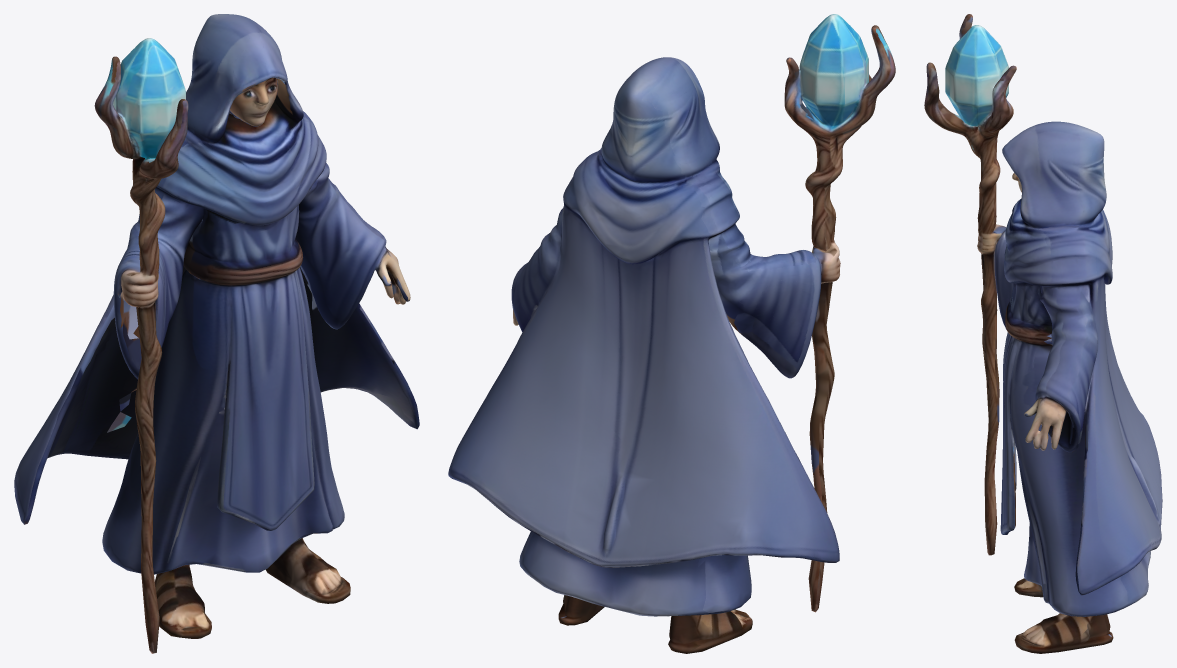
Rendered from mage.glb.
The picture shows the model from 3 angles, left to right: view 1: azimuth 30°, elevation 25°; view 2: azimuth 150°, elevation 25°; view 3: azimuth 270°, elevation 25°; orthographic projection. The views are drawn at different scales.
Parts seen in each view (by area): view 1: Wizard; view 2: Wizard; view 3: Wizard.
Boxes of the visible parts, <box> form: Wizard: <box>14,14,419,653</box>; Wizard: <box>448,14,895,653</box>; Wizard: <box>924,14,1162,653</box>.
Bounding box in the file's own units: 1.08 × 1.65 × 0.6671.
Materials: 1 (1 with a texture image).
